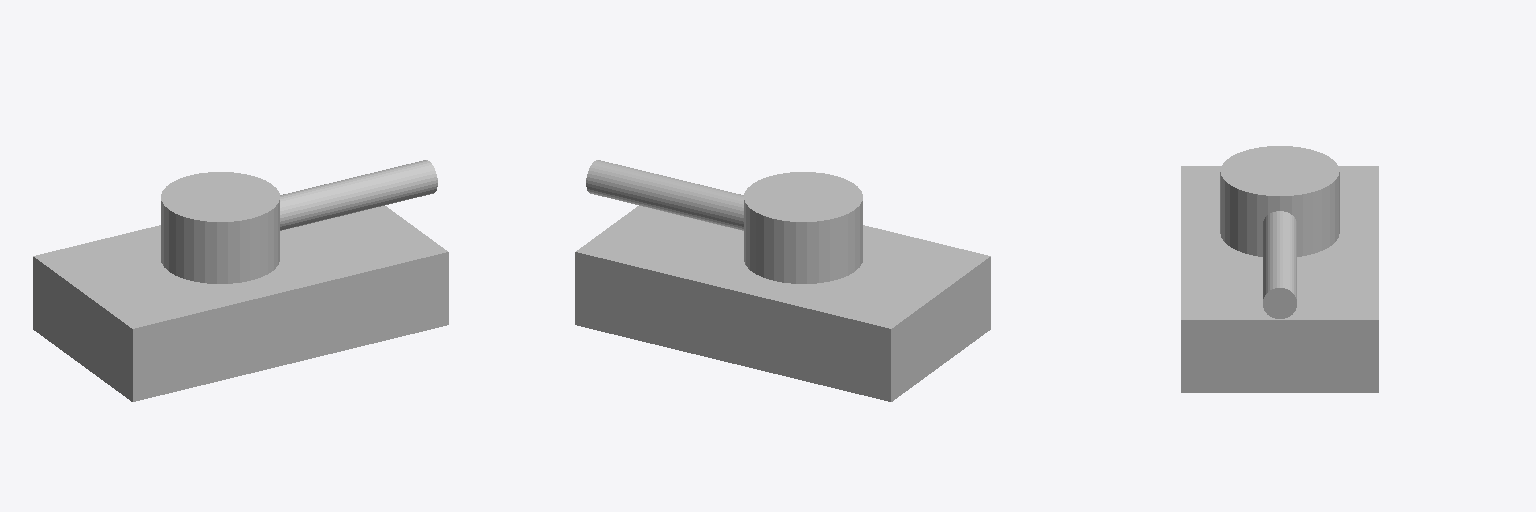
File: NewTank.obj
3 renders of one model, left to right at view 1: azimuth 30°, elevation 25°; view 2: azimuth 150°, elevation 25°; view 3: azimuth 270°, elevation 25°, orthographic.
Visible parts, largest first — view 1: Cube_Cube.001, Cylinder, Cylinder.001; view 2: Cube_Cube.001, Cylinder, Cylinder.001; view 3: Cube_Cube.001, Cylinder, Cylinder.001.
Part boxes in pixels (x1,y1,x2,y2): Cube_Cube.001: (33,206,448,401); Cylinder: (161,172,279,283); Cylinder.001: (280,160,437,230); Cube_Cube.001: (575,206,990,401); Cylinder: (744,172,862,283); Cylinder.001: (586,160,743,230); Cube_Cube.001: (1181,166,1378,392); Cylinder: (1220,146,1339,256); Cylinder.001: (1263,211,1296,318).
Size of the model in its own units: 4.02 by 1.5 by 2.